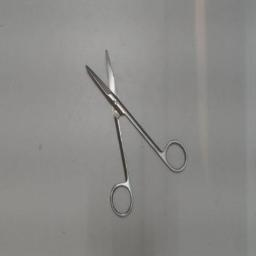Curved Mayo Scissors: (78, 40, 190, 220)
